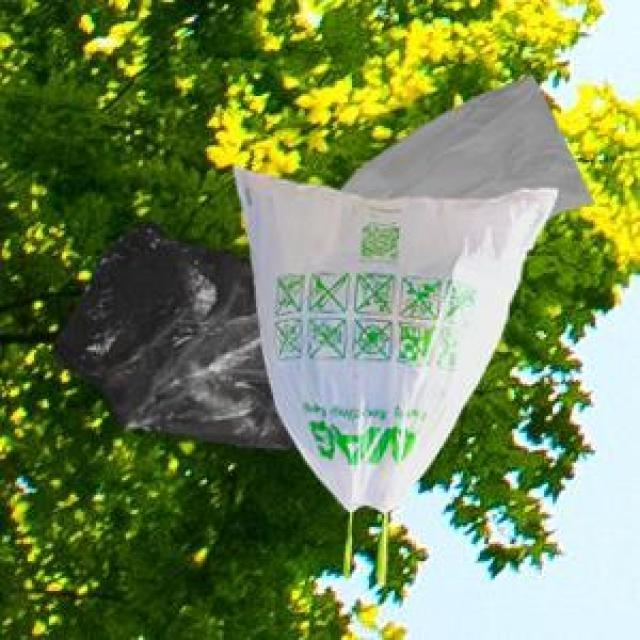Bolsa-de-nilon: (238, 177, 554, 545), (64, 214, 298, 464), (332, 68, 580, 214)
